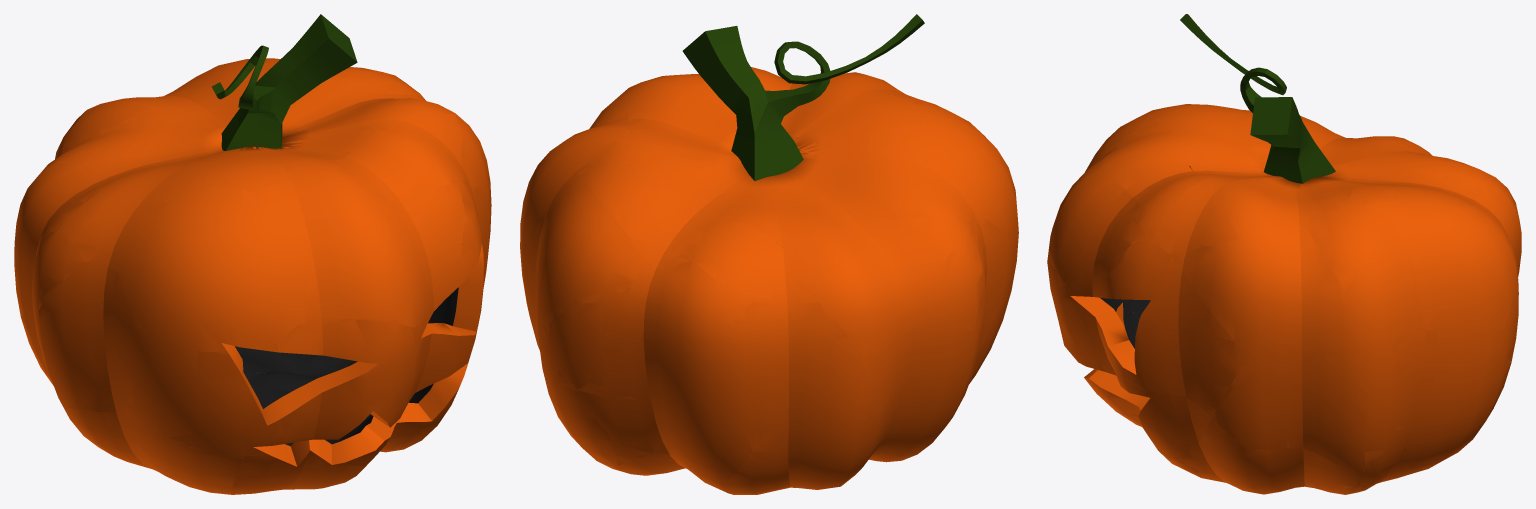
File: MESH_Pumpkin_exploded.fbx
3 views of the same model, side by side, from view 1: azimuth 30°, elevation 25°; view 2: azimuth 150°, elevation 25°; view 3: azimuth 270°, elevation 25° (orthographic). The views are drawn at different scales.
Visible parts, largest first — view 1: Circle.002, Circle.002_cell.056, Circle.002_cell.003, Circle.002_cell.014, Circle.002_cell.013, Circle.002_cell.016, Cube.002, Circle.002_cell.050, Circle.002_cell.069, Circle.002_cell.048, Circle.002_cell.008, Circle.002_cell.004 (+15 smaller); view 2: Circle.002, Cube.002, Circle.002_cell.008, Circle.002_cell.069, Circle.002_cell.044, Circle.002_cell.002, Circle.002_cell.041, Circle.002_cell.005, Circle.002_cell.014, Circle.002_cell.037, Circle.002_cell.007, Circle.002_cell.018 (+12 smaller); view 3: Circle.002, Circle.002_cell.067, Circle.002_cell.022, Circle.002_cell.056, Circle.002_cell.028, Cube.002, Circle.002_cell.035, Circle.002_cell.044, Circle.002_cell.050, Circle.002_cell.059, Circle.002_cell.034, Circle.002_cell.069 (+15 smaller).
Part boxes in pixels (<box>): Circle.002: <box>14,61,491,494</box>; Circle.002_cell.056: <box>296,180,463,333</box>; Circle.002_cell.003: <box>118,184,305,351</box>; Circle.002_cell.014: <box>38,258,132,412</box>; Circle.002_cell.013: <box>278,318,426,443</box>; Circle.002_cell.016: <box>128,350,284,456</box>; Cube.002: <box>211,14,357,150</box>; Circle.002_cell.050: <box>262,128,453,219</box>; Circle.002_cell.069: <box>63,105,204,176</box>; Circle.002_cell.048: <box>119,408,243,494</box>; Circle.002_cell.008: <box>14,161,101,300</box>; Circle.002_cell.004: <box>229,445,369,494</box>; Circle.002: <box>520,73,1018,494</box>; Cube.002: <box>682,14,924,180</box>; Circle.002_cell.008: <box>820,218,977,405</box>; Circle.002_cell.069: <box>718,176,861,278</box>; Circle.002_cell.044: <box>536,173,651,340</box>; Circle.002_cell.002: <box>687,219,817,298</box>; Circle.002_cell.041: <box>578,163,664,265</box>; Circle.002_cell.005: <box>655,164,729,260</box>; Circle.002_cell.014: <box>936,216,1007,411</box>; Circle.002_cell.037: <box>629,110,726,165</box>; Circle.002_cell.007: <box>595,253,754,375</box>; Circle.002_cell.018: <box>703,132,826,197</box>; Circle.002: <box>1047,104,1521,494</box>; Circle.002_cell.067: <box>1101,236,1247,416</box>; Circle.002_cell.022: <box>1170,226,1360,355</box>; Circle.002_cell.056: <box>1049,146,1148,297</box>; Circle.002_cell.028: <box>1213,354,1368,469</box>; Cube.002: <box>1180,14,1335,183</box>; Circle.002_cell.035: <box>1187,419,1364,494</box>; Circle.002_cell.044: <box>1405,206,1517,351</box>; Circle.002_cell.050: <box>1101,121,1205,230</box>; Circle.002_cell.059: <box>1096,320,1212,463</box>; Circle.002_cell.034: <box>1148,178,1303,253</box>; Circle.002_cell.069: <box>1321,136,1419,175</box>.
Size of the model in its own units: 1.64 by 1.56 by 1.72.
